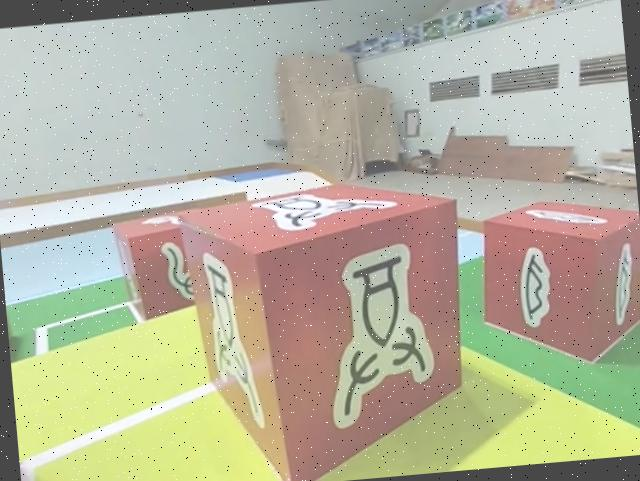R2 Real: (173, 166, 483, 481), (471, 186, 640, 370), (105, 200, 219, 325)
